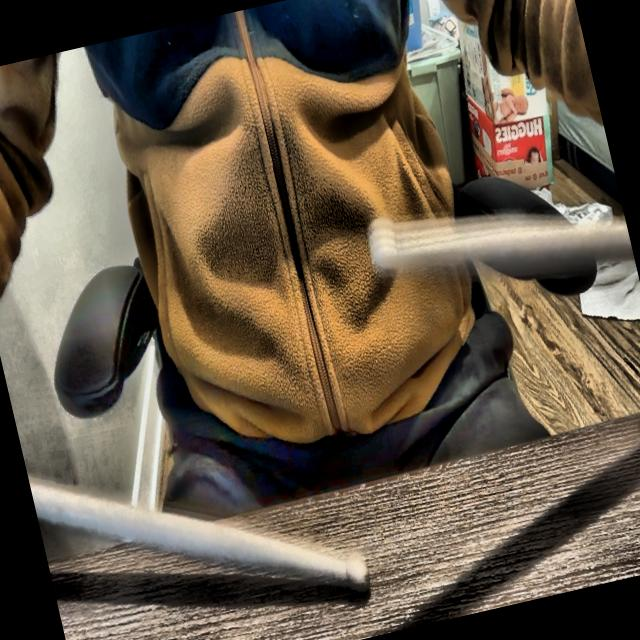Drumstick-Heads: (356, 214, 409, 277), (338, 539, 378, 598)
